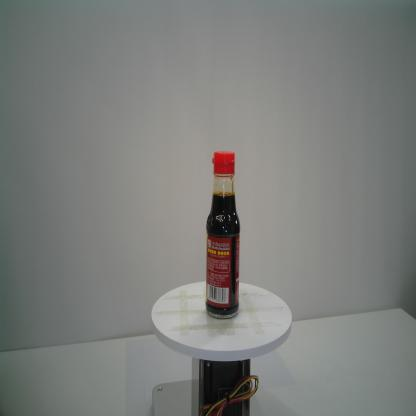Seasoner: (204, 151, 241, 320)
